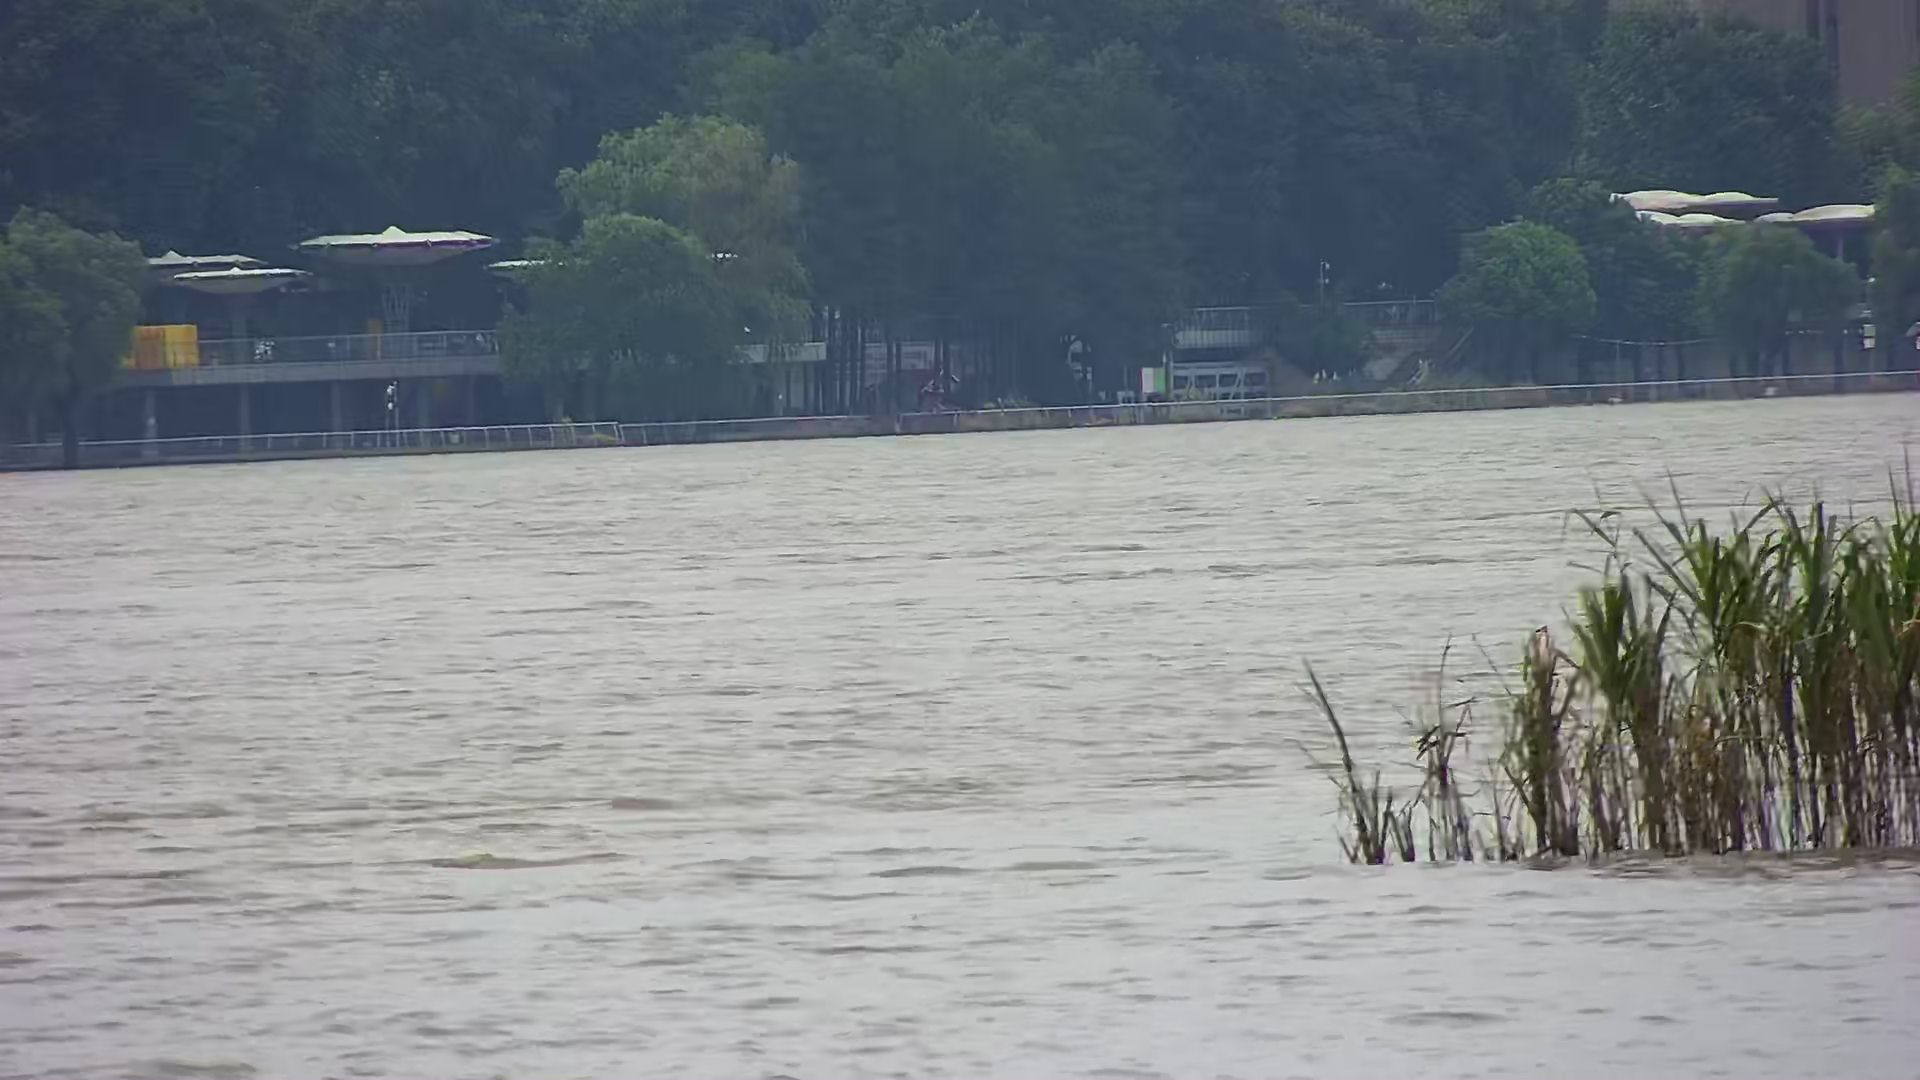grass: (1305, 451, 1920, 865)
